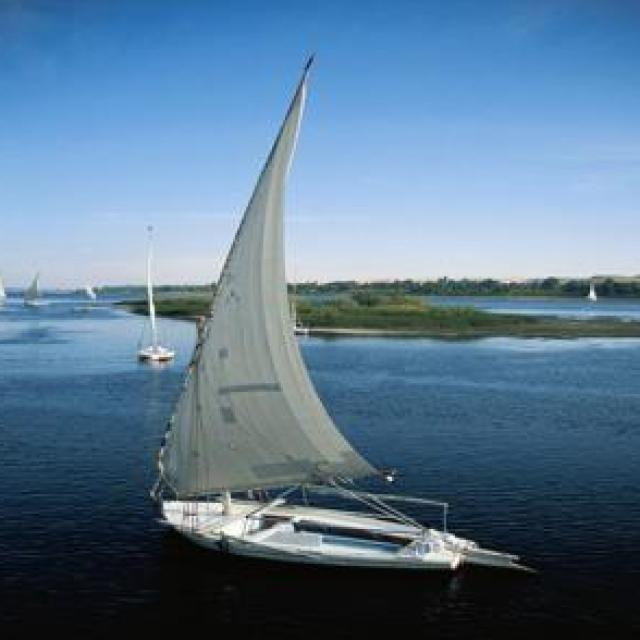sailboat: (159, 40, 506, 572), (135, 222, 173, 365), (23, 262, 50, 310), (580, 276, 605, 308), (0, 266, 11, 311)
